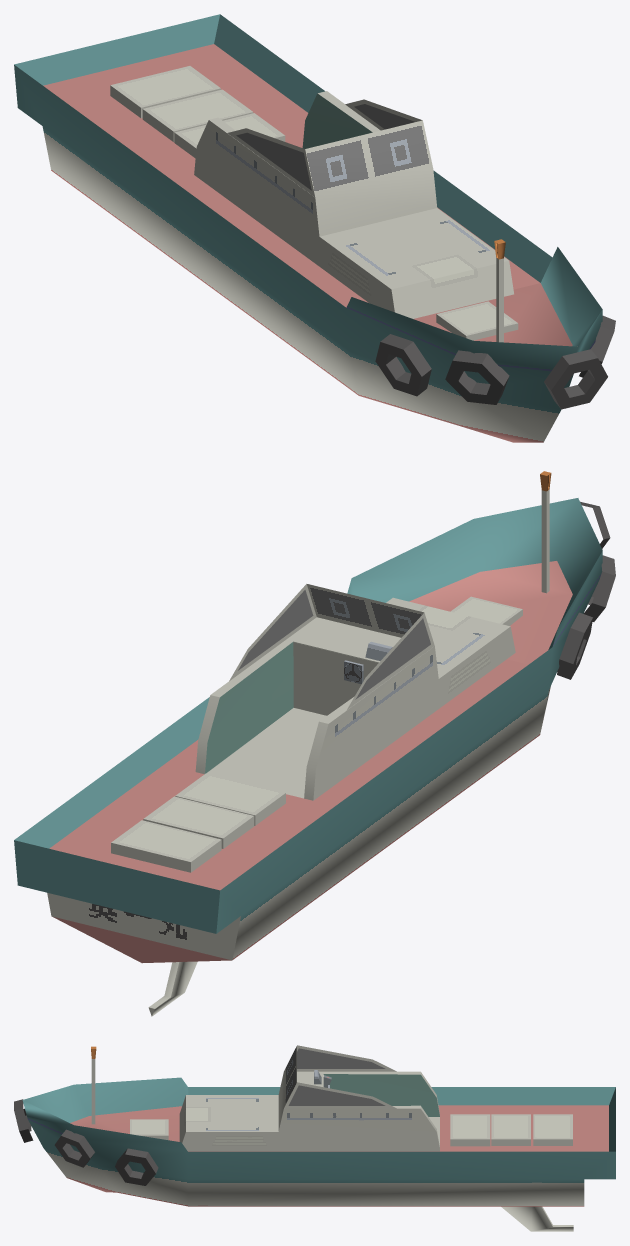
Rendered from 0289_Fishing_Boat.glb.
3 renders of one model, top to bottom at view 1: azimuth 30°, elevation 25°; view 2: azimuth 150°, elevation 25°; view 3: azimuth 270°, elevation 25°, orthographic. The views are drawn at different scales.
Visible parts, largest first — view 1: part_0; view 2: part_0; view 3: part_0.
Boxes of the visible parts, box(x1,y1,x2,y2) form: part_0: box(14, 14, 615, 442); part_0: box(14, 471, 615, 1016); part_0: box(14, 1045, 615, 1231).
Bounding box in the file's own units: 3.36 × 4.29 × 13.19.
Materials: 1 (1 with a texture image).
